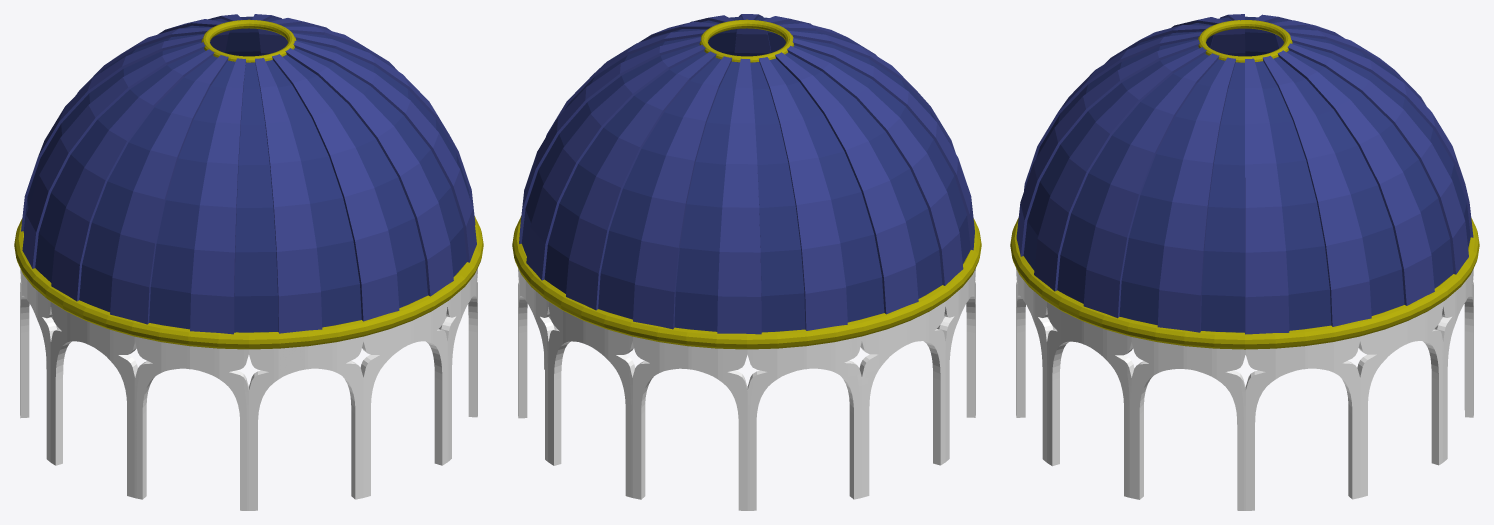
Rendered from Tholos 1.fbx.
3 renders of one model, left to right at view 1: azimuth 30°, elevation 25°; view 2: azimuth 150°, elevation 25°; view 3: azimuth 270°, elevation 25°, orthographic.
Visible parts, largest first — view 1: Dome.003, Dome.002, Plane.002, Torus.002, Torus.003; view 2: Dome.003, Dome.002, Plane.002, Torus.002, Torus.003; view 3: Dome.003, Dome.002, Plane.002, Torus.002, Torus.003.
Boxes of the visible parts, bbox=[...] form: Dome.003: bbox=[21, 14, 476, 334]; Dome.002: bbox=[23, 16, 469, 332]; Plane.002: bbox=[20, 268, 477, 510]; Torus.002: bbox=[14, 216, 483, 349]; Torus.003: bbox=[201, 19, 296, 62]; Dome.003: bbox=[519, 14, 974, 334]; Dome.002: bbox=[521, 16, 970, 332]; Plane.002: bbox=[518, 268, 975, 510]; Torus.002: bbox=[512, 216, 981, 349]; Torus.003: bbox=[699, 19, 793, 62]; Dome.003: bbox=[1016, 14, 1473, 334]; Dome.002: bbox=[1023, 16, 1470, 332]; Plane.002: bbox=[1016, 268, 1473, 510]; Torus.002: bbox=[1010, 218, 1479, 349]; Torus.003: bbox=[1198, 20, 1292, 62].
Size of the model in its own units: 4308 by 3803 by 4308.
